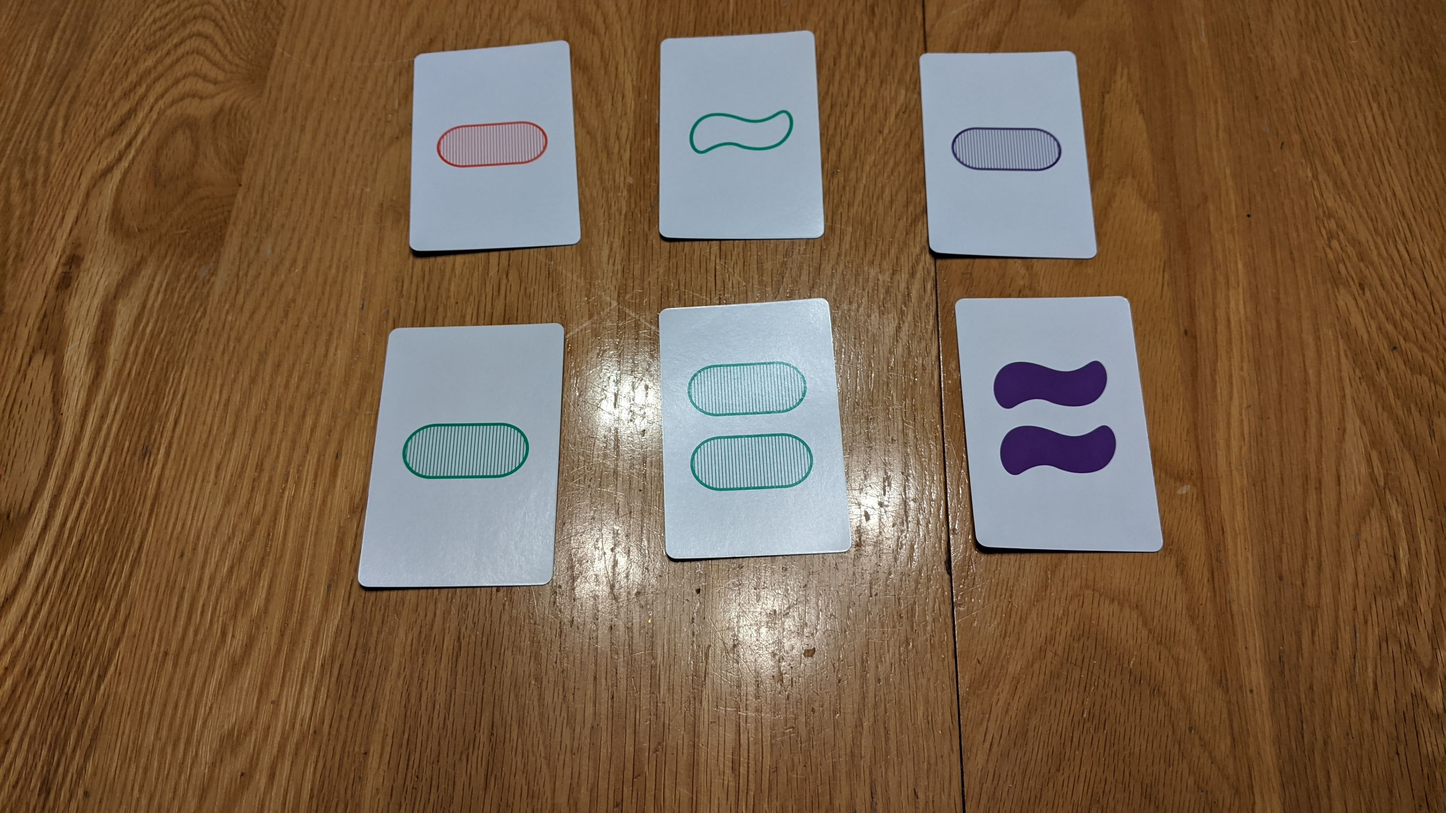card: (359, 325, 565, 585), (955, 297, 1164, 553), (659, 300, 854, 557), (918, 50, 1099, 259), (410, 40, 581, 251), (658, 30, 826, 240)
